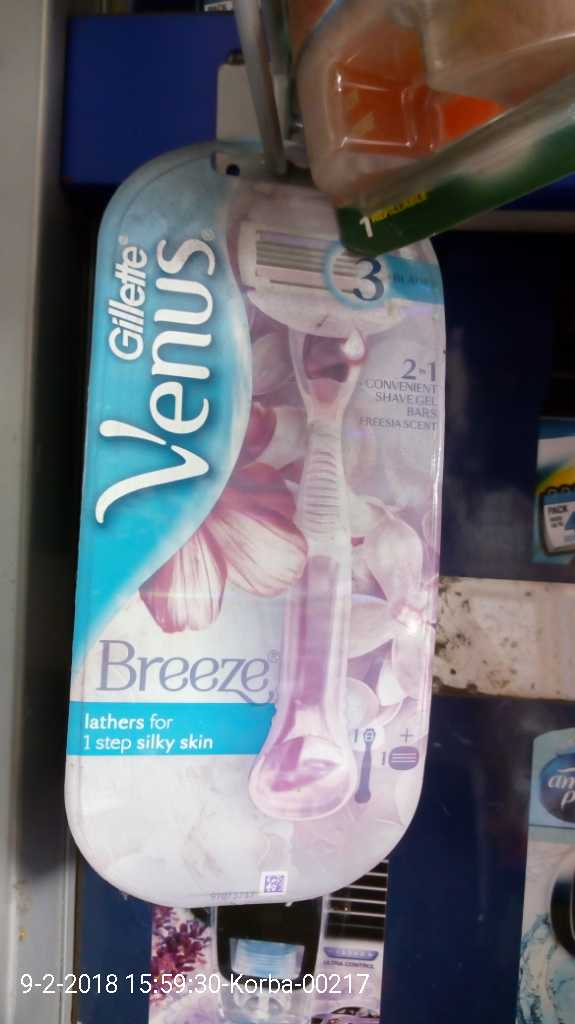venus: (81, 149, 441, 897)
